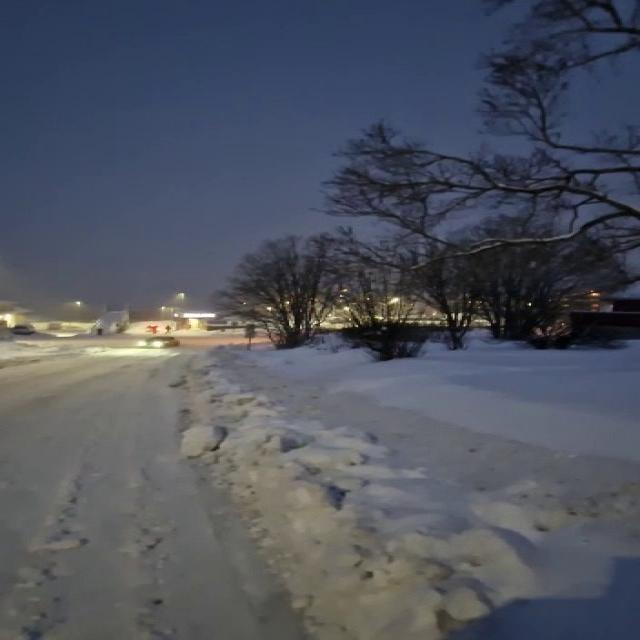path: (0, 341, 307, 640)
